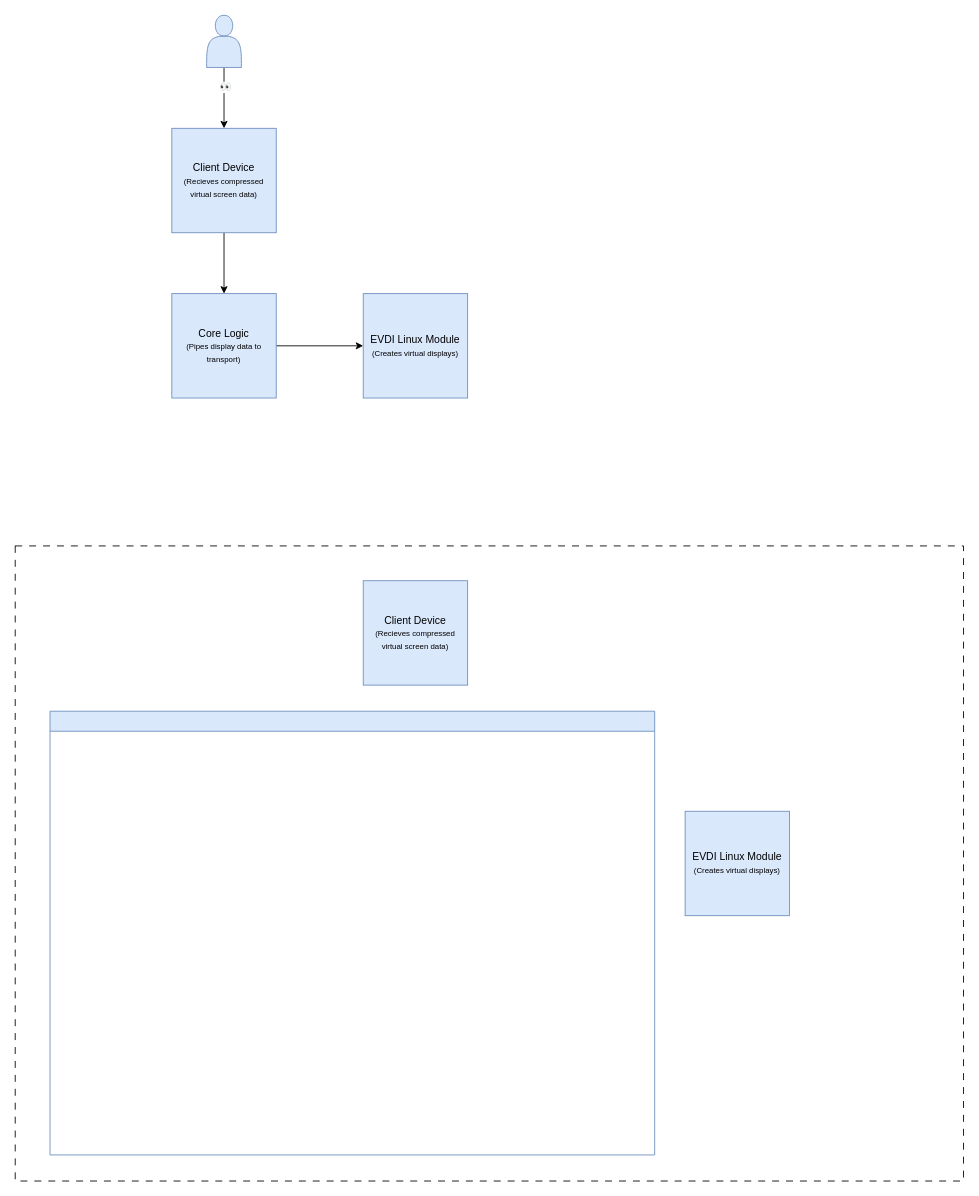
Image size: 979x1196. Some labels were removed from this diagram. The centre of each missing label's shape, as x and y in pixels:
"Core Logic (Zoom In)" belongs at point 352,932.
"you or me" belongs at point 223,40.
